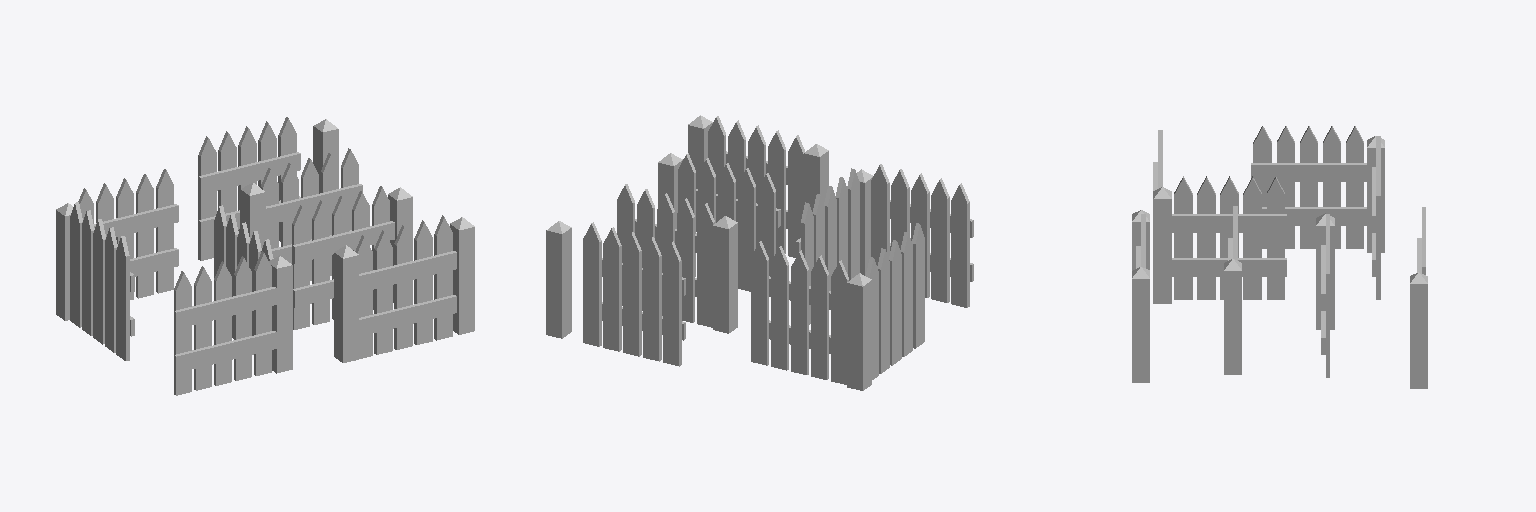
File: Picket Fence.obj
The picture shows the model from 3 angles: view 1: azimuth 30°, elevation 25°; view 2: azimuth 150°, elevation 25°; view 3: azimuth 270°, elevation 25°; orthographic projection.
Visible parts, largest first — view 1: Fence_Full, Fence_Outwards_Corner, Fence_Inwards_Corner, Fence_Left_Pillar, Fence_Blank, Fence_Right_Pillar, Fence_Pillar; view 2: Fence_Outwards_Corner, Fence_Inwards_Corner, Fence_Blank, Fence_Right_Pillar, Fence_Full, Fence_Left_Pillar, Fence_Pillar; view 3: Fence_Inwards_Corner, Fence_Outwards_Corner, Fence_Full, Fence_Right_Pillar, Fence_Left_Pillar, Fence_Pillar.
Boxes of the visible parts, box(x1,y1,x2,y2) form: Fence_Full: box(334, 215, 474, 362); Fence_Outwards_Corner: box(56, 169, 178, 360); Fence_Inwards_Corner: box(174, 205, 292, 395); Fence_Left_Pillar: box(292, 186, 412, 329); Fence_Blank: box(198, 117, 300, 260); Fence_Right_Pillar: box(240, 148, 362, 280); Fence_Pillar: box(313, 119, 338, 193); Fence_Outwards_Corner: box(751, 223, 924, 390); Fence_Inwards_Corner: box(795, 164, 973, 324); Fence_Blank: box(583, 222, 685, 366); Fence_Right_Pillar: box(617, 184, 737, 333); Fence_Full: box(688, 115, 828, 257); Fence_Left_Pillar: box(658, 153, 780, 296); Fence_Pillar: box(546, 221, 571, 338); Fence_Inwards_Corner: box(1153, 130, 1286, 303); Fence_Outwards_Corner: box(1251, 126, 1384, 299); Fence_Full: box(1132, 210, 1149, 382); Fence_Right_Pillar: box(1316, 213, 1334, 377); Fence_Left_Pillar: box(1224, 206, 1241, 374); Fence_Pillar: box(1410, 272, 1427, 388).
Size of the model in its own units: 73.76 by 29.06 by 64.13.